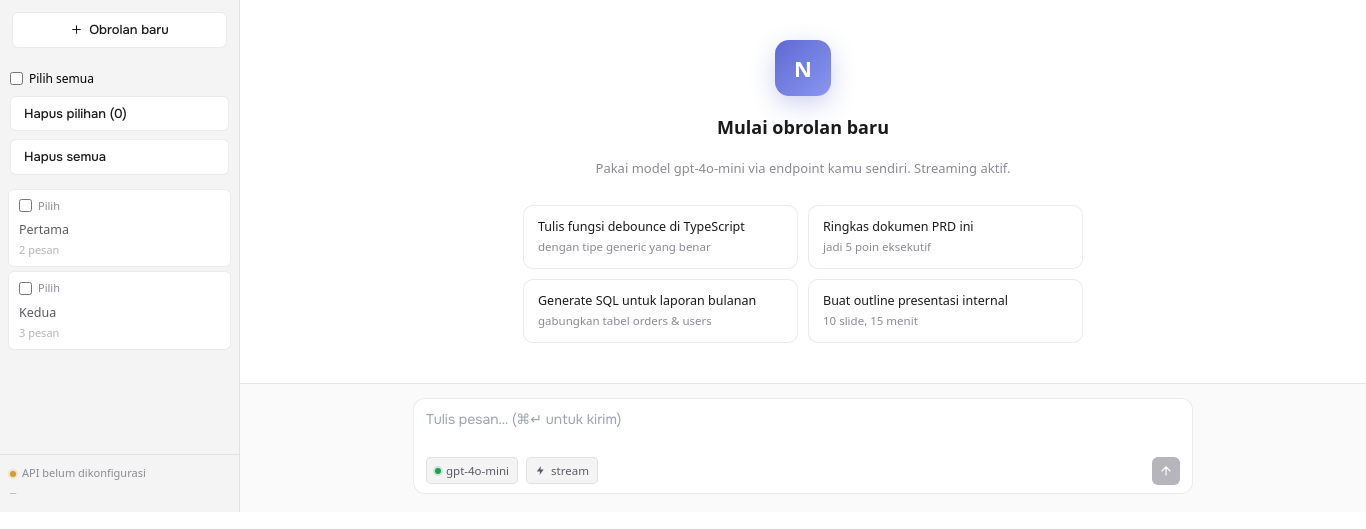
it: selects all and deletes the entire list
Step 1. Click the checkbox named "Pilih semua obrolan" → (16, 78), box left=10, top=72, right=23, bottom=85
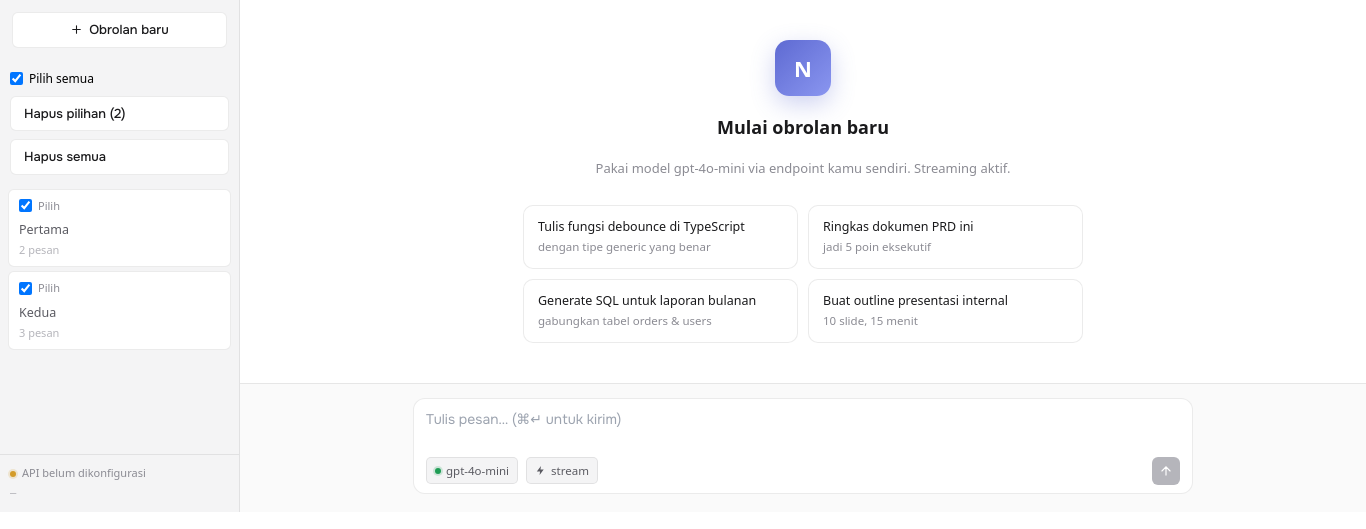
Expected: the button "Hapus pilihan (2)" is shown, left=10, top=96, right=229, bottom=131
Step 2. Click the button "Hapus semua" → (120, 157), box left=10, top=139, right=229, bottom=174
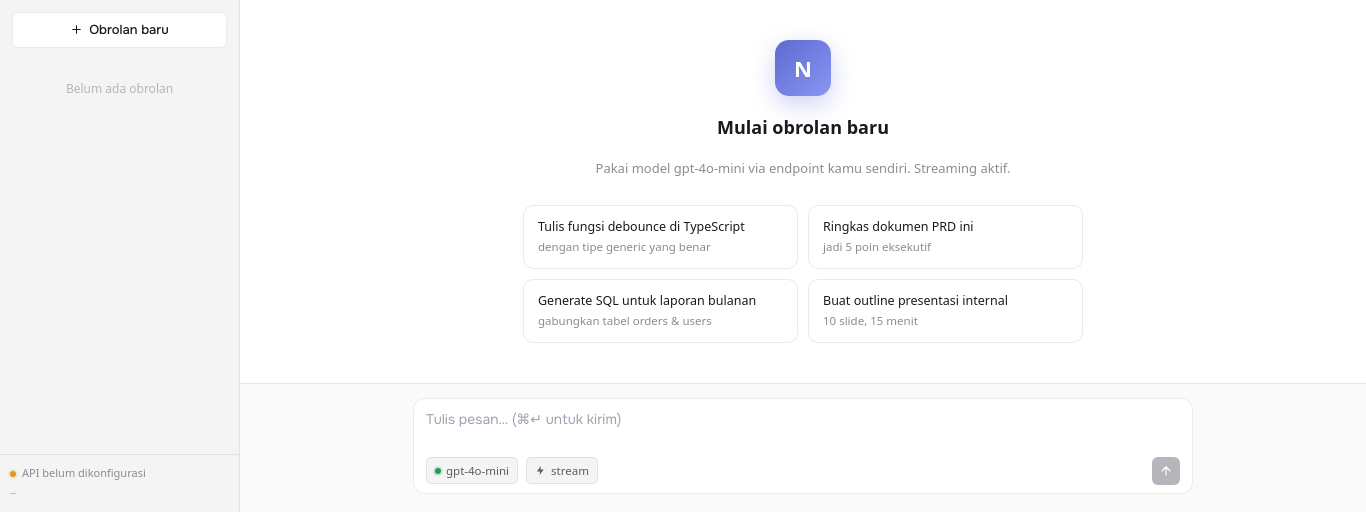
Expected: the text "Belum ada obrolan" is shown, left=66, top=80, right=173, bottom=96
